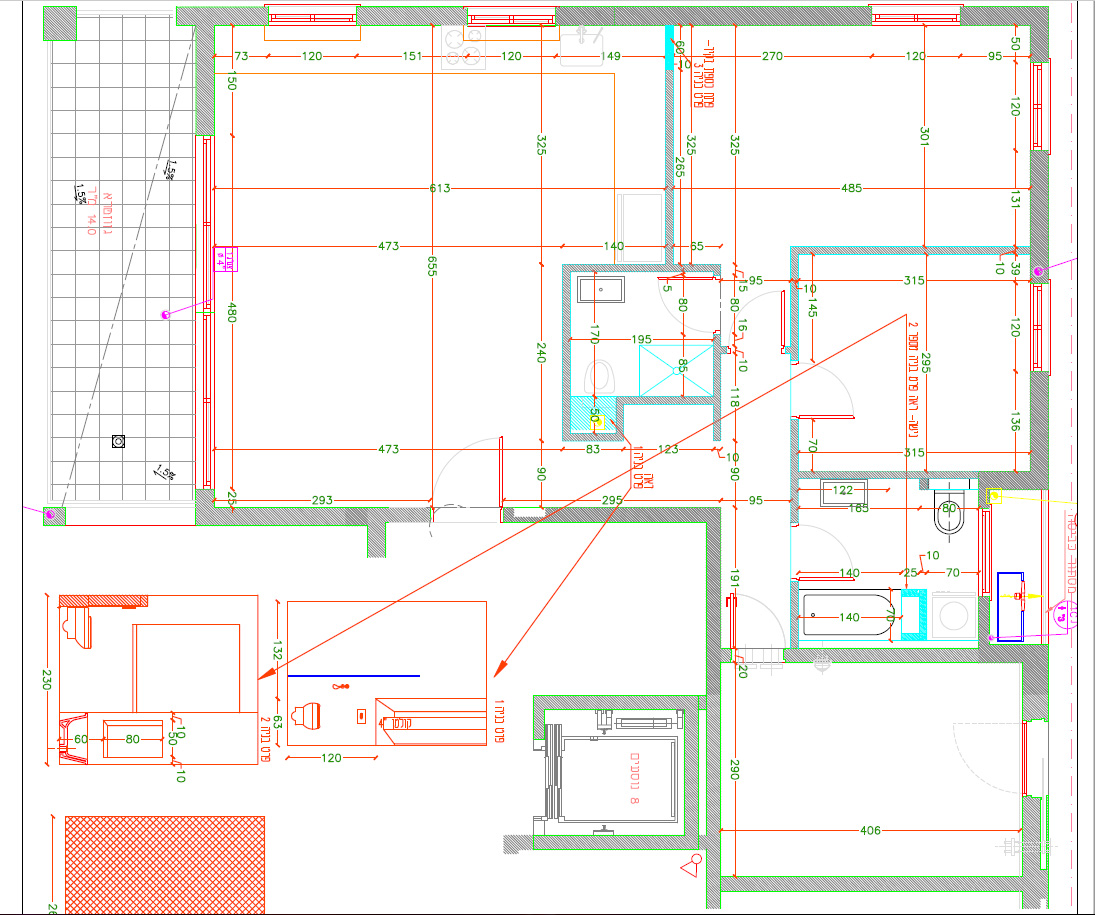window: (195, 136, 214, 489), (268, 5, 359, 41), (468, 6, 559, 42), (870, 4, 961, 29), (1031, 61, 1053, 151), (1029, 282, 1051, 372), (978, 509, 1000, 599)
